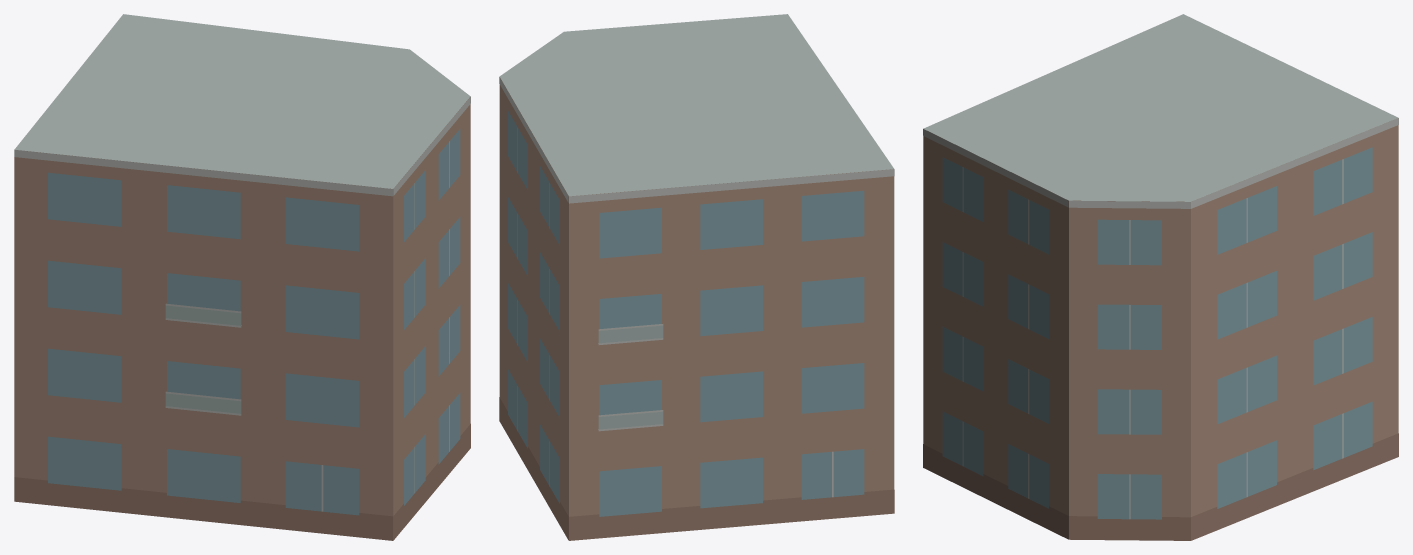
Rendered from survey-upis-32856282.glb.
3 views of the same model, side by side, from view 1: azimuth 30°, elevation 25°; view 2: azimuth 150°, elevation 25°; view 3: azimuth 270°, elevation 25° (orthographic). The views are drawn at different scales.
Parts seen in each view (by area): view 1: survey-upis-32856282.tmp; view 2: survey-upis-32856282.tmp; view 3: survey-upis-32856282.tmp.
Part boxes in pixels (x1=…): survey-upis-32856282.tmp: x1=14, y1=14, x2=470, y2=540; survey-upis-32856282.tmp: x1=499, y1=14, x2=894, y2=540; survey-upis-32856282.tmp: x1=923, y1=14, x2=1398, y2=540.
Size of the model in its own units: 13.91 by 11.7 by 14.88.
